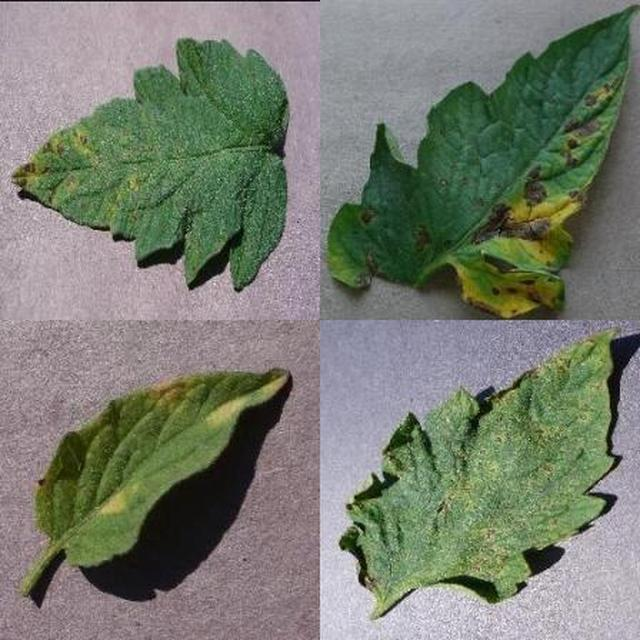Septoria Leaf: (216, 233, 640, 640)
